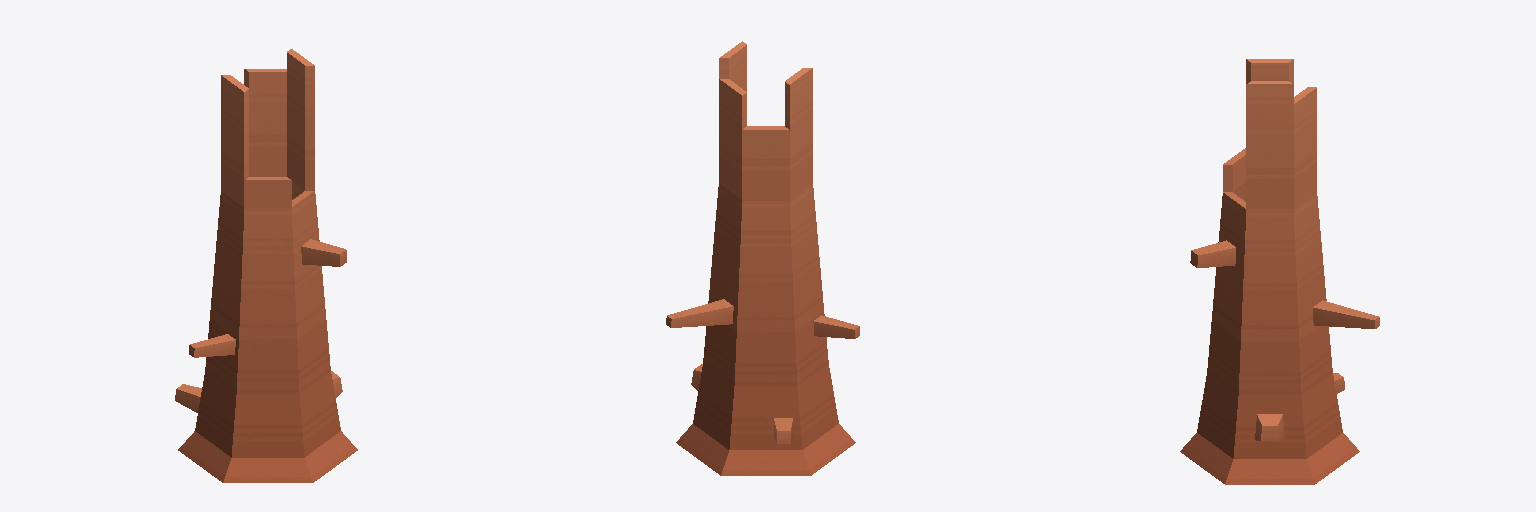
The picture shows the model from 3 angles: view 1: azimuth 30°, elevation 25°; view 2: azimuth 150°, elevation 25°; view 3: azimuth 270°, elevation 25°; orthographic projection.
Parts seen in each view (by area): view 1: Trunk_3; view 2: Trunk_3; view 3: Trunk_3.
Part boxes in pixels (left/top/right/bottom): Trunk_3: left=175, top=49, right=357, bottom=482; Trunk_3: left=666, top=41, right=859, bottom=475; Trunk_3: left=1180, top=59, right=1379, bottom=484.
Bounding box in the file's own units: 0.5442 × 1.29 × 0.6118.
Materials: 1 (1 with a texture image).